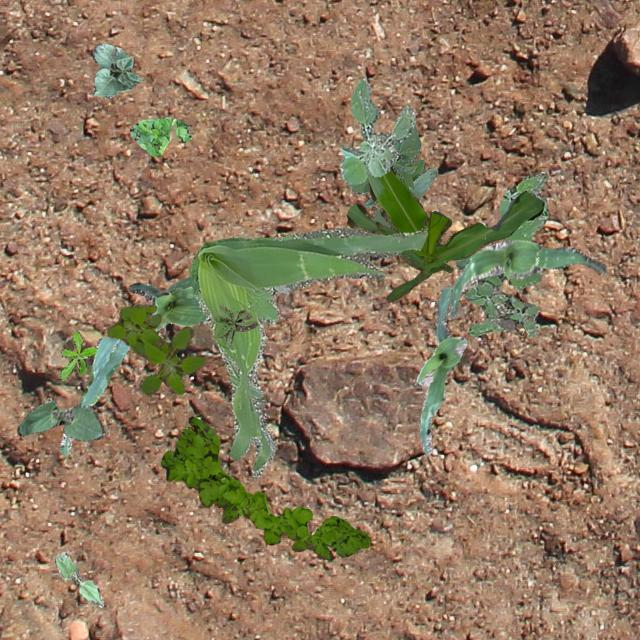crop: (59, 276, 208, 456), (346, 166, 542, 300), (446, 238, 606, 318), (349, 122, 436, 226), (416, 286, 466, 452), (16, 398, 104, 440), (54, 550, 102, 606), (91, 42, 140, 96)
weed: (188, 227, 426, 476), (160, 416, 370, 558), (454, 170, 548, 337), (106, 304, 206, 394), (338, 76, 414, 184), (128, 116, 190, 156), (59, 330, 96, 380), (212, 304, 256, 346)
